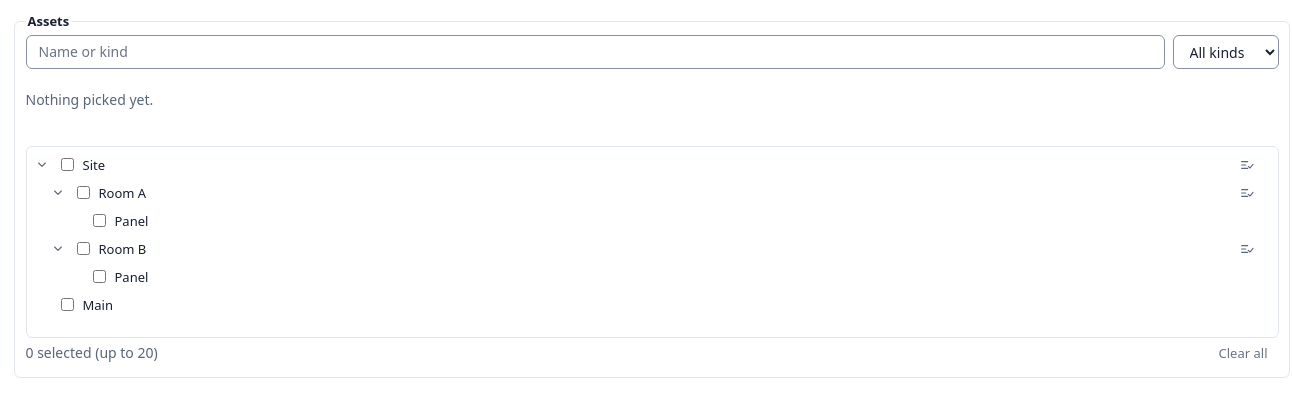
Test: AssetPicker › toggles assets in and out of the selection
Click the checkbox labelled "Site": (67, 165) [60, 158, 74, 171]
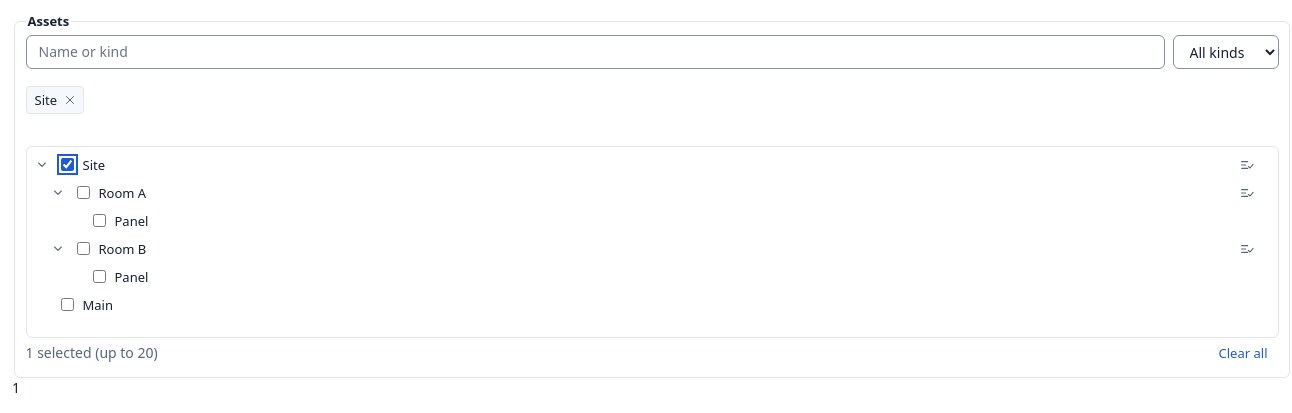
Click the checkbox labelled "Room A": (83, 193) [76, 186, 90, 199]
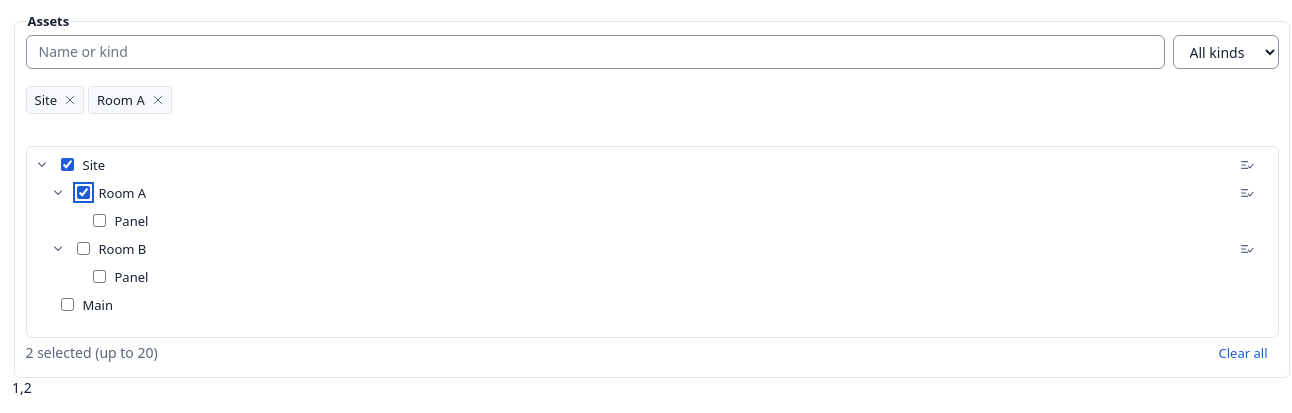
Expected: the text with test id "selected" reads "1,2", [12, 378, 32, 397]
Click the checkbox labelled "Site": (67, 165) [60, 158, 74, 171]
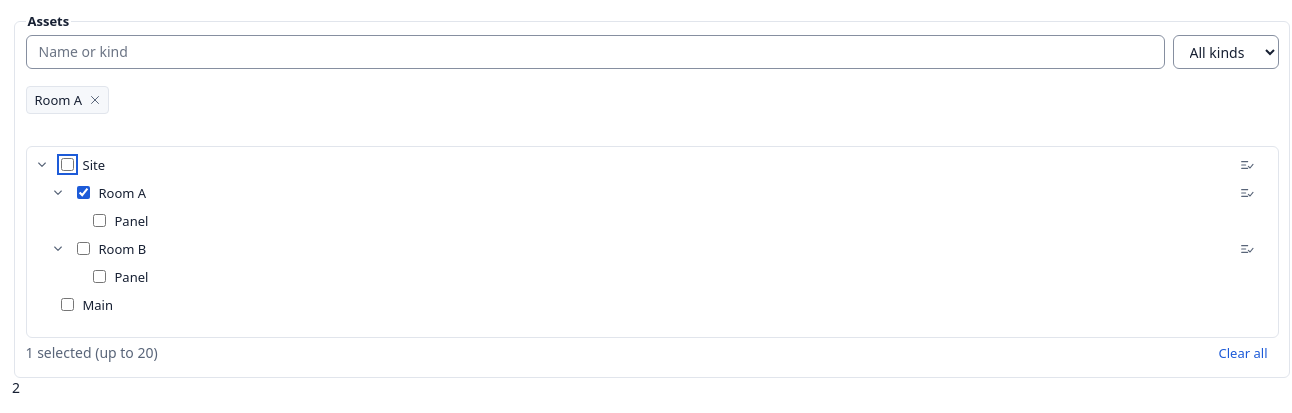
Expected: the text with test id "selected" reads "2", [12, 378, 20, 397]
